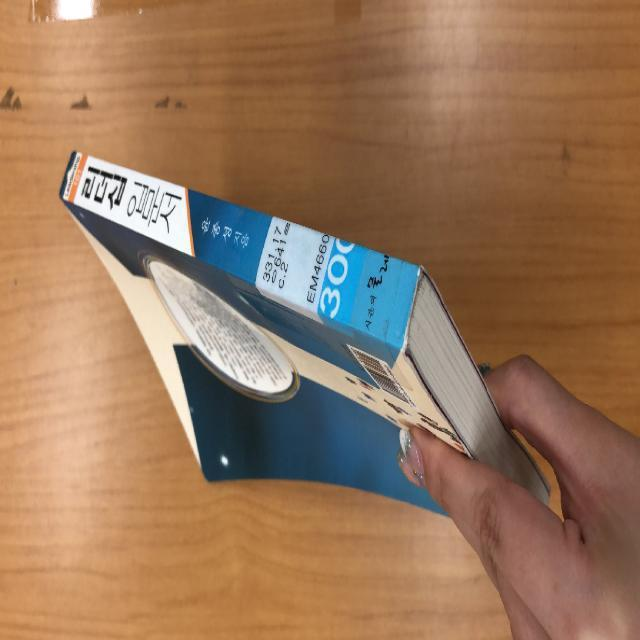Wornout: (396, 303, 422, 373), (410, 256, 440, 304)
